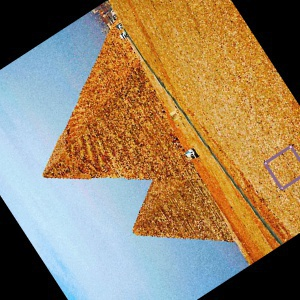square: (262, 144, 300, 193)
